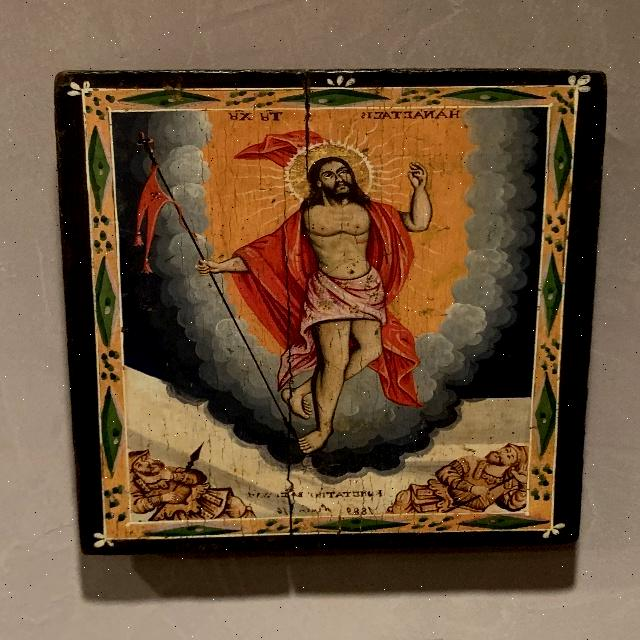aura: (279, 133, 380, 197)
chris_resurrected: (232, 117, 443, 470)
scepter: (129, 129, 306, 442)
